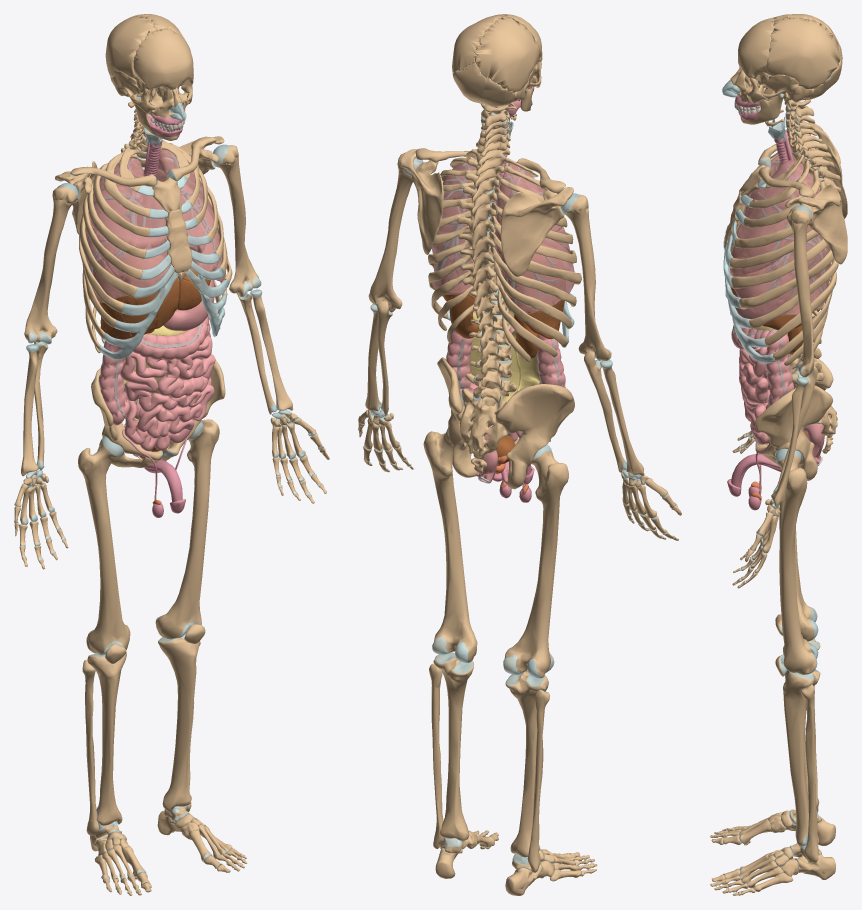
Rendered from splanchnology.glb.
3 views of the same model, side by side, from view 1: azimuth 30°, elevation 25°; view 2: azimuth 150°, elevation 25°; view 3: azimuth 270°, elevation 25° (orthographic). The views are drawn at different scales.
Parts seen in each view (by area): view 1: Object_9, Object_25, Object_12, Object_24, Object_63, Object_21, Object_11, Object_55, Object_8, Object_45, Object_62, Object_54 (+19 smaller); view 2: Object_9, Object_25, Object_24, Object_12, Object_8, Object_22, Object_34, Object_35, Object_37, Object_36, Object_53, Object_62 (+25 smaller); view 3: Object_9, Object_10, Object_25, Object_12, Object_26, Object_24, Object_63, Object_64, Object_53, Object_44, Object_21, Object_11 (+27 smaller).
Boxes of the visible parts, x1,y1,x2,y2 form: Object_9: (24,86,281,835); Object_25: (35,293,281,891); Object_12: (14,136,329,892); Object_24: (21,269,235,891); Object_63: (88,149,219,271); Object_21: (82,28,246,859); Object_11: (14,78,323,887); Object_55: (120,336,214,444); Object_8: (19,15,322,889); Object_45: (99,185,178,359); Object_62: (85,188,169,302); Object_54: (130,351,203,451); Object_9: (368,152,628,872); Object_25: (377,300,628,870); Object_24: (428,255,644,860); Object_12: (359,148,681,895); Object_8: (364,16,674,872); Object_22: (500,187,573,276); Object_34: (458,105,512,374); Object_35: (457,112,510,331); Object_37: (459,159,507,473); Object_36: (465,102,517,403); Object_53: (446,311,565,482); Object_62: (494,214,574,312); Object_9: (765,209,818,812); Object_10: (734,17,840,858); Object_25: (719,357,833,892); Object_12: (711,129,835,894); Object_26: (755,385,832,480); Object_24: (716,262,836,885); Object_63: (729,155,819,276); Object_64: (731,194,830,315); Object_53: (733,295,824,464); Object_44: (723,179,775,877); Object_21: (732,17,833,895); Object_11: (724,73,821,886).
Bounding box in the file's own units: 0.6693 × 1.7 × 0.2501.
